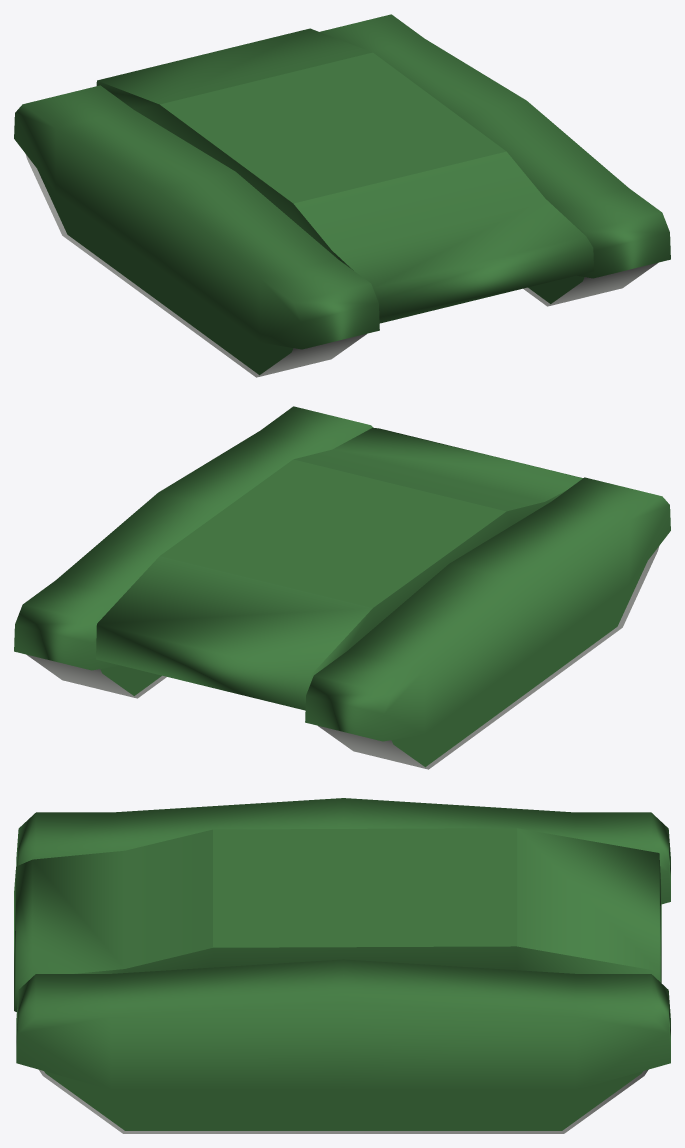
The model's file is Support unit tank_Legs.fbx.
3 views of the same model, one above another, from view 1: azimuth 30°, elevation 25°; view 2: azimuth 150°, elevation 25°; view 3: azimuth 270°, elevation 25° (orthographic). The views are drawn at different scales.
Parts seen in each view (by area): view 1: base, right track, left track; view 2: base, right track, left track; view 3: left track, base, right track.
Boxes of the visible parts, left/top/right/bottom form: base: left=96, top=28, right=594, bottom=323; right track: left=14, top=85, right=379, bottom=377; left track: left=320, top=14, right=670, bottom=306; base: left=96, top=427, right=582, bottom=710; right track: left=305, top=477, right=670, bottom=769; left track: left=14, top=406, right=372, bottom=698; left track: left=16, top=959, right=670, bottom=1133; base: left=14, top=828, right=661, bottom=1012; right track: left=16, top=798, right=670, bottom=904.
Bounding box in the file's own units: 537 × 178 × 729.
